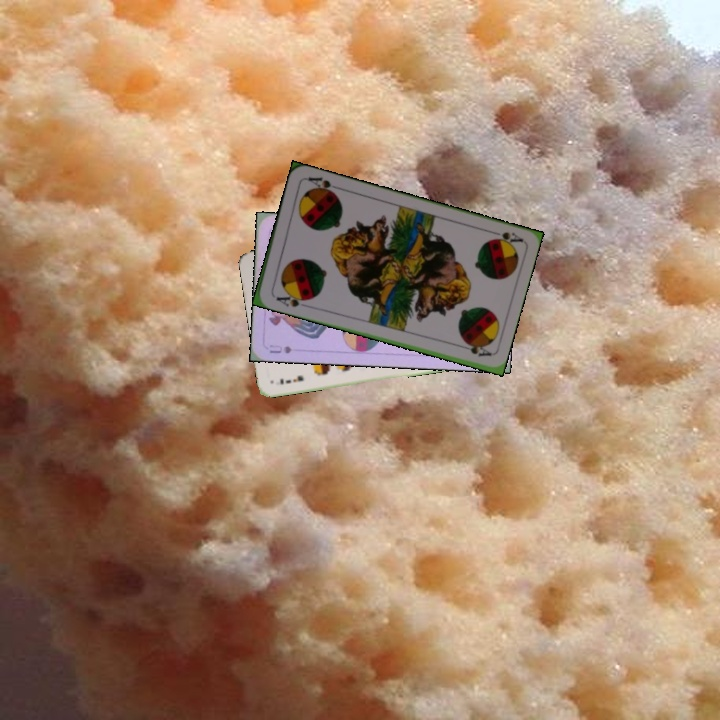E7: (276, 372, 306, 387)
SA: (270, 288, 311, 310), (484, 226, 524, 248)
SU: (265, 341, 294, 356)
